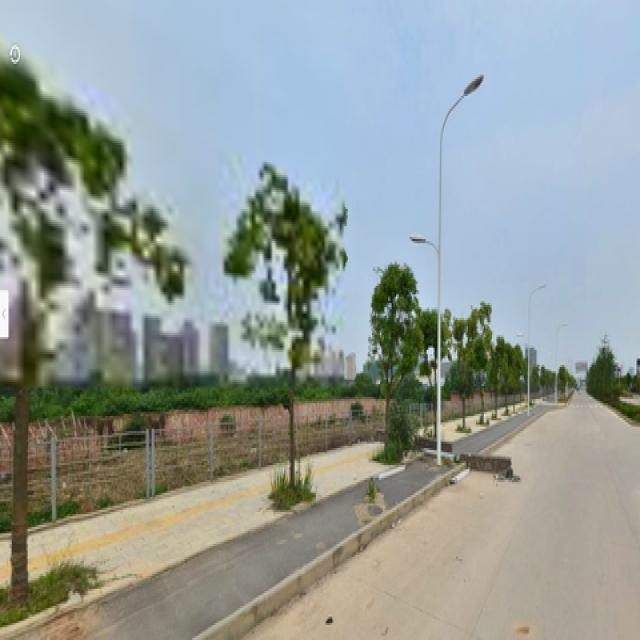cinn: (374, 265, 402, 450)
